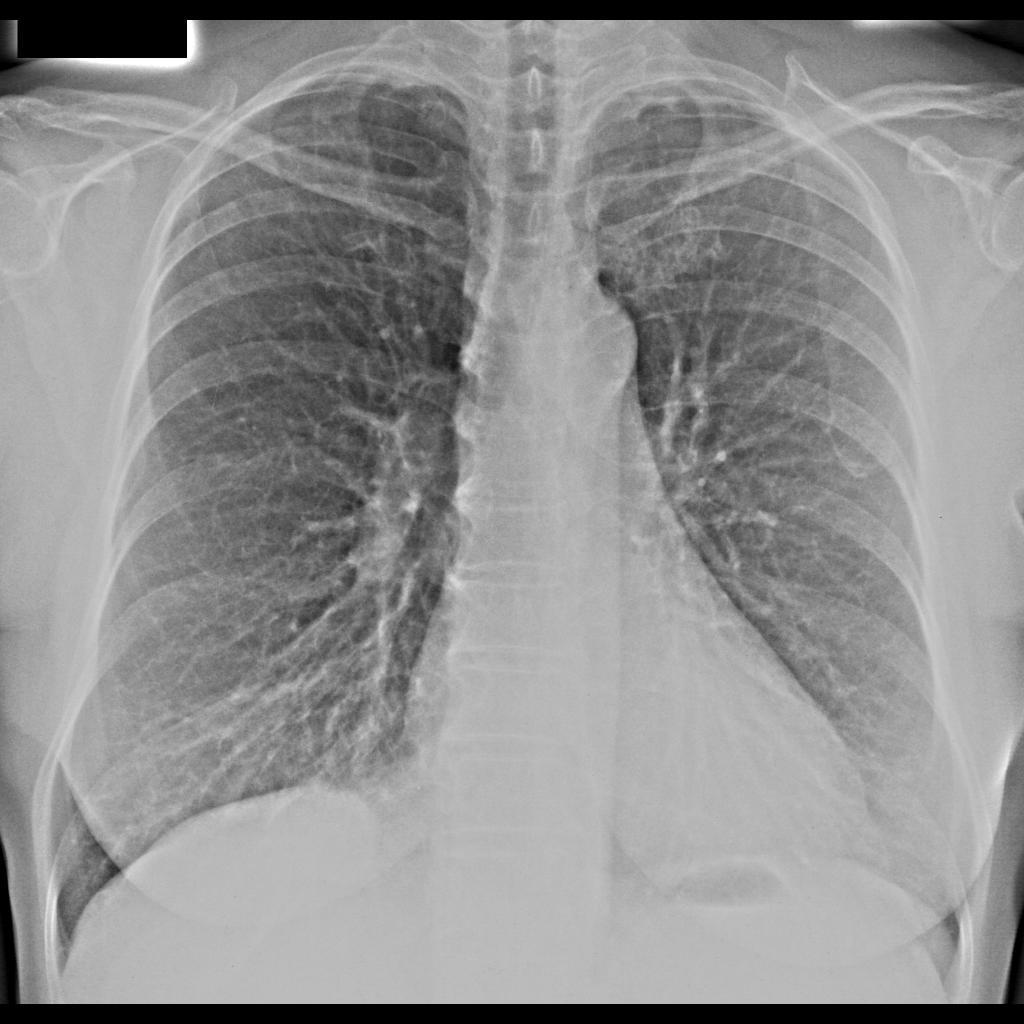Nodule: (271, 789, 374, 892)
